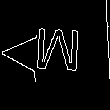M_S: (34, 29, 85, 83)
